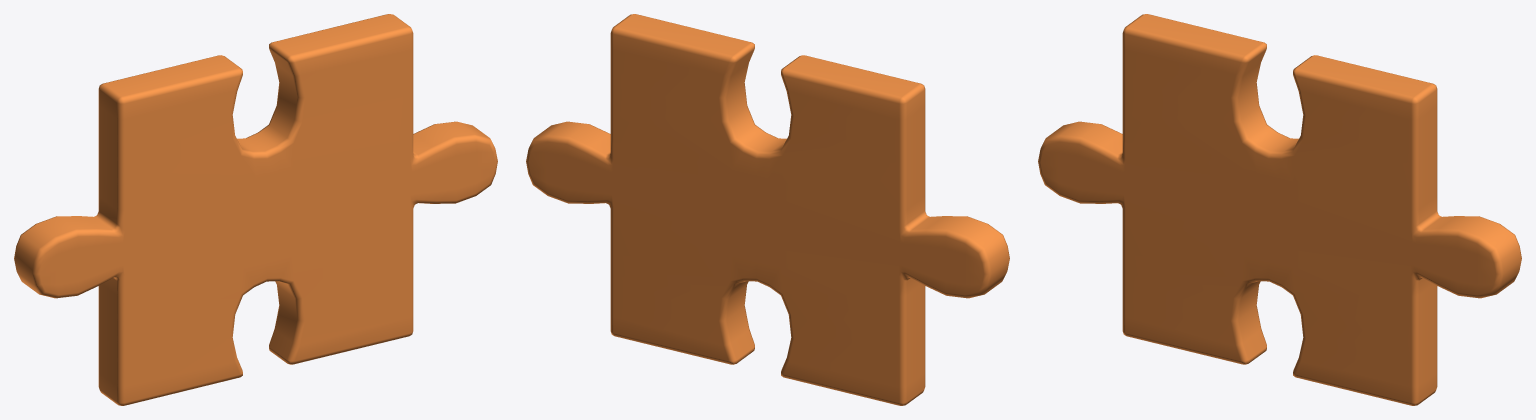
File: Puzzle_1.glb
3 renders of one model, left to right at view 1: azimuth 30°, elevation 25°; view 2: azimuth 150°, elevation 25°; view 3: azimuth 330°, elevation 25°, orthographic.
Parts seen in each view (by area): view 1: Puzzle_1; view 2: Puzzle_1; view 3: Puzzle_1.
Boxes of the visible parts, bbox=[...] form: Puzzle_1: bbox=[14, 14, 497, 405]; Puzzle_1: bbox=[526, 14, 1009, 405]; Puzzle_1: bbox=[1038, 14, 1521, 405].
Size of the model in its own units: 0.9005 by 0.5723 by 0.0779.
Materials: 1 (1 with a texture image).
